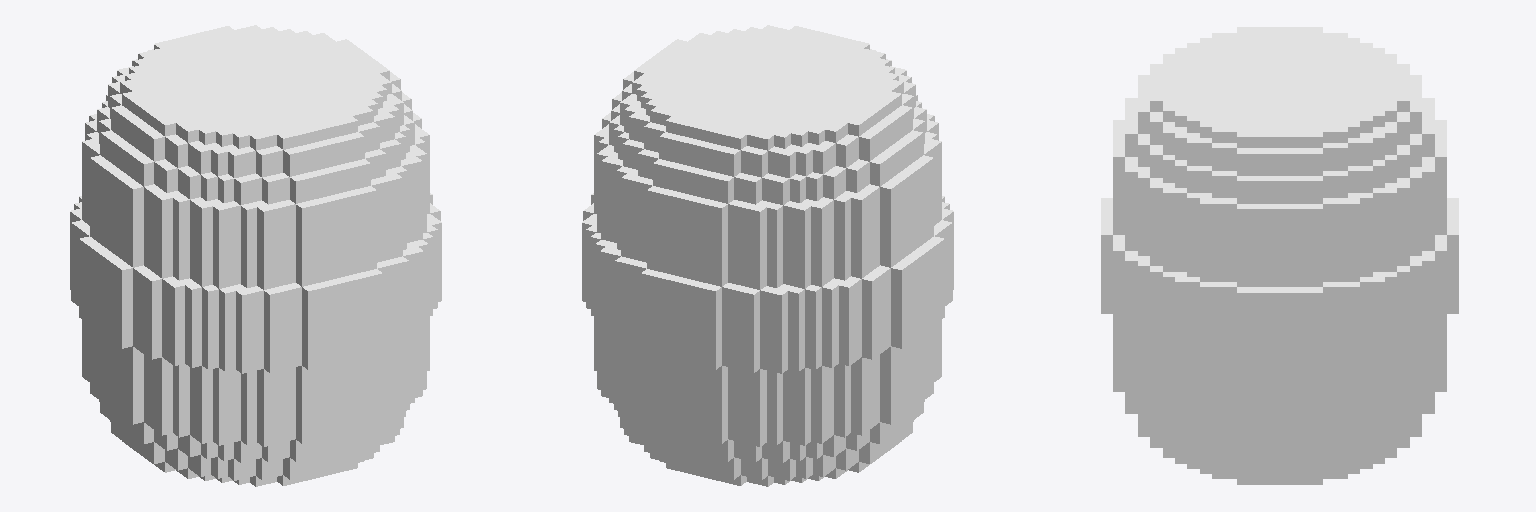
Rendered from barrel.obj.
3 views of the same model, side by side, from view 1: azimuth 30°, elevation 25°; view 2: azimuth 150°, elevation 25°; view 3: azimuth 270°, elevation 25° (orthographic).
Size of the model in its own units: 29 by 31 by 29.